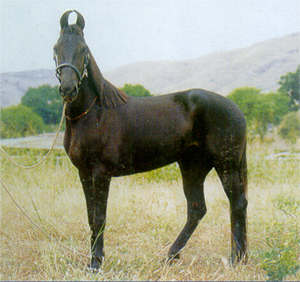horse: (51, 6, 253, 276)
